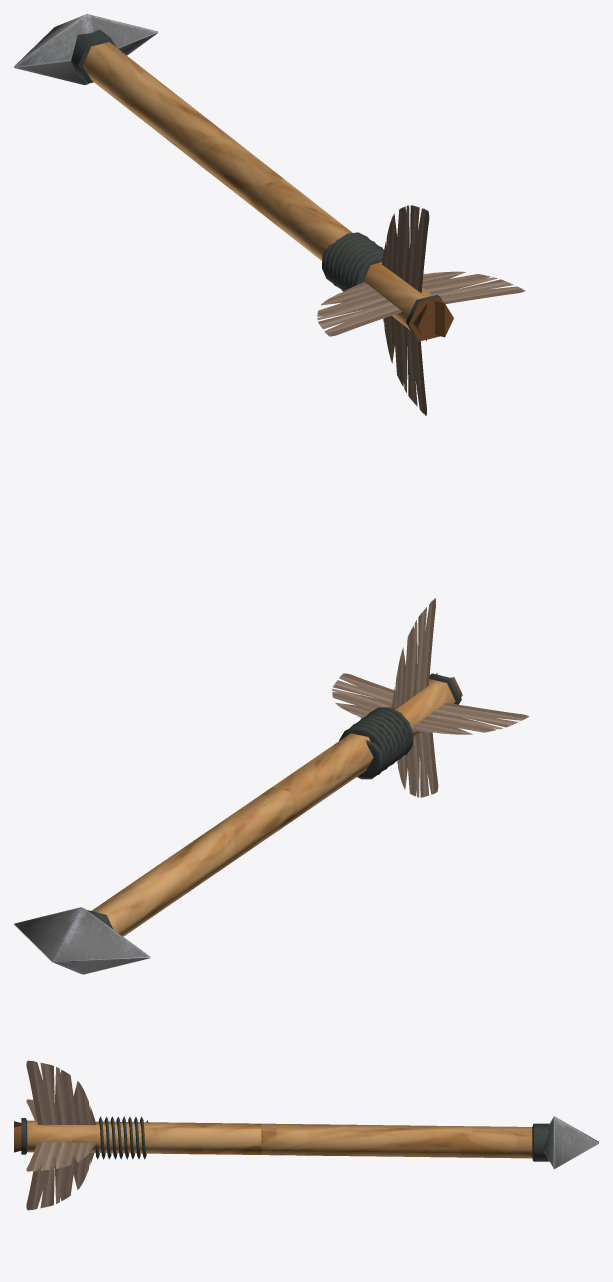
Rendered from arrow.obj.
3 views of the same model, one above another, from view 1: azimuth 30°, elevation 25°; view 2: azimuth 150°, elevation 25°; view 3: azimuth 270°, elevation 25° (orthographic). The views are drawn at different scales.
Parts seen in each view (by area): view 1: polySurface38_Mesh.001; view 2: polySurface38_Mesh.001; view 3: polySurface38_Mesh.001.
Part boxes in pixels (x1=…): polySurface38_Mesh.001: x1=14, y1=14, x2=525, y2=415; polySurface38_Mesh.001: x1=14, y1=598, x2=529, y2=974; polySurface38_Mesh.001: x1=14, y1=1060, x2=598, y2=1210.
Bounding box in the file's own units: 1.63 × 1.64 × 3.29.
